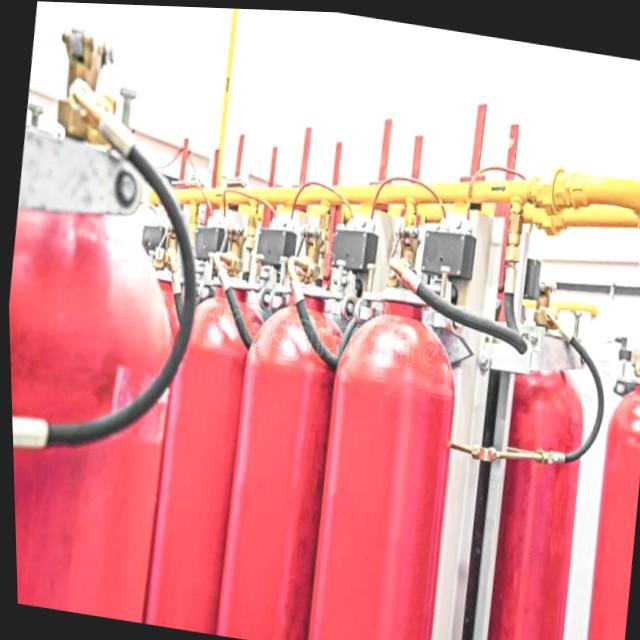FireExtinguisher: (1, 42, 235, 627), (285, 211, 552, 640), (195, 215, 381, 640), (127, 203, 299, 639), (447, 280, 622, 640), (561, 319, 640, 640)
